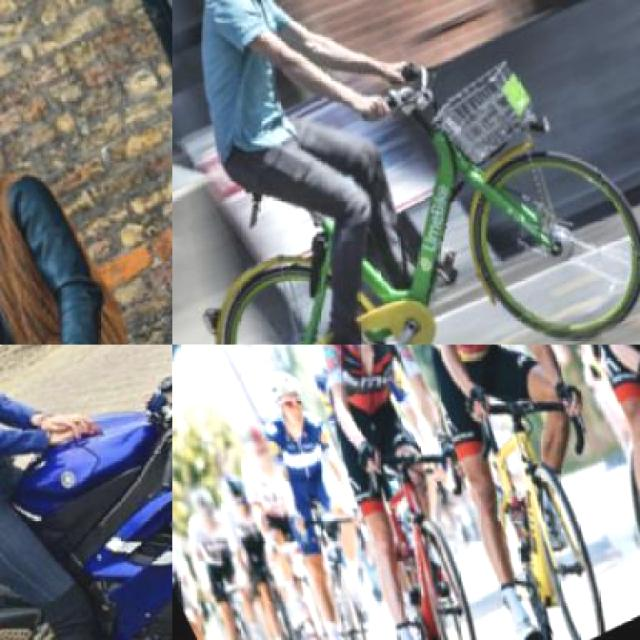With Helmet: (256, 360, 319, 437), (208, 460, 267, 529), (234, 415, 286, 482), (182, 478, 227, 534)
